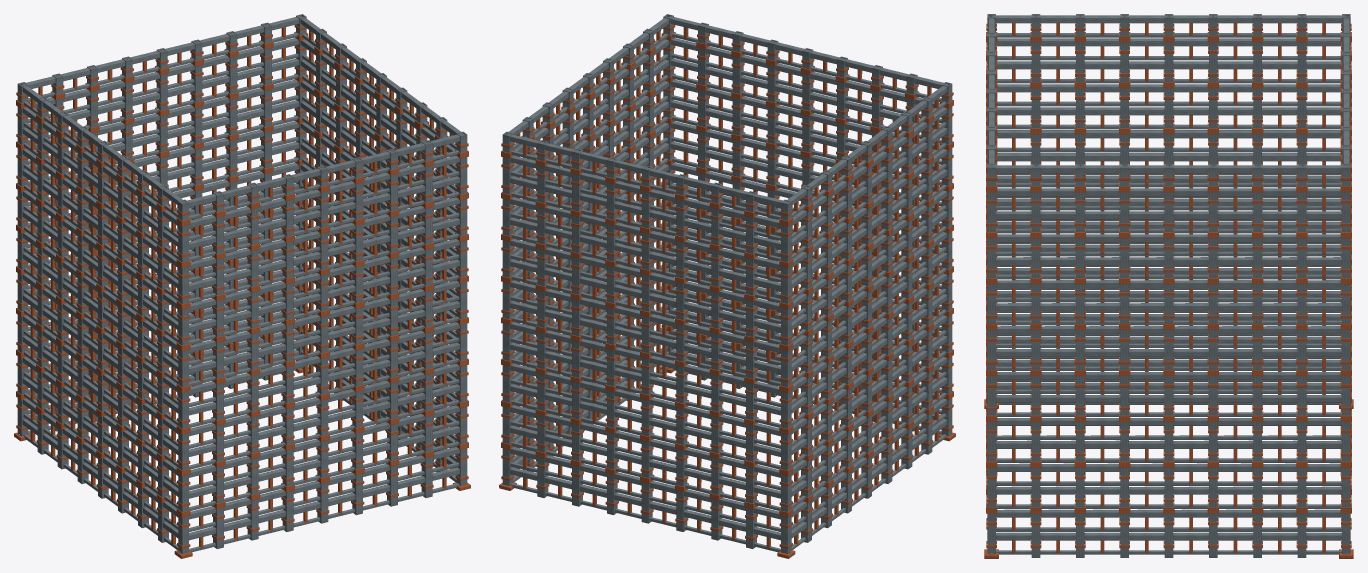
The picture shows the model from 3 angles, left to right: view 1: azimuth 30°, elevation 25°; view 2: azimuth 150°, elevation 25°; view 3: azimuth 270°, elevation 25°; orthographic projection. The views are drawn at different scales.
Size of the model in its own units: 3.75 by 4.37 by 3.75.
Materials: 2 (2 with a texture image).
